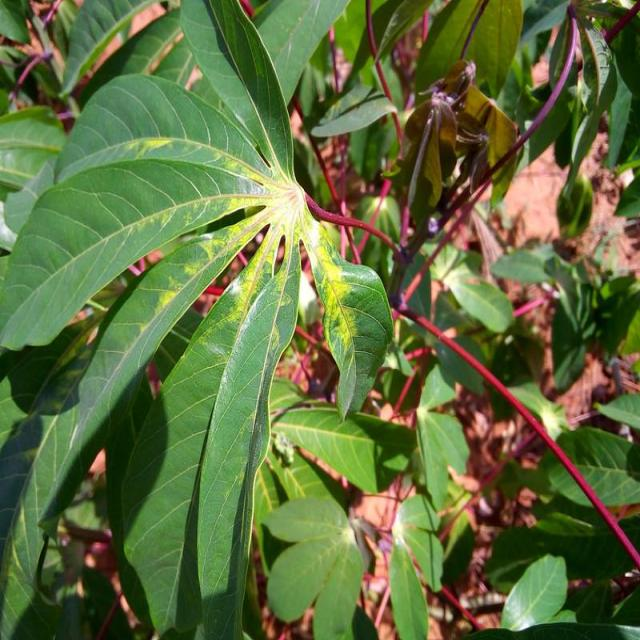cassava leaf: (1, 0, 396, 638)
